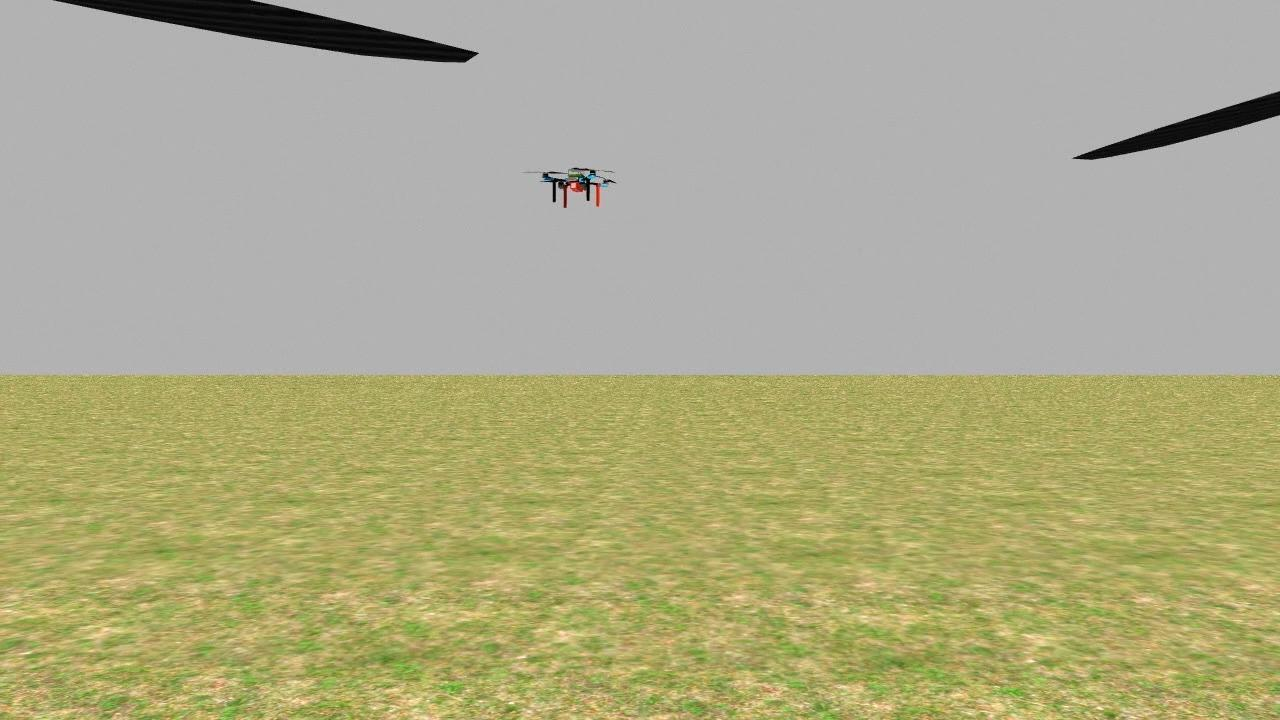UAV: (536, 144, 621, 214)
